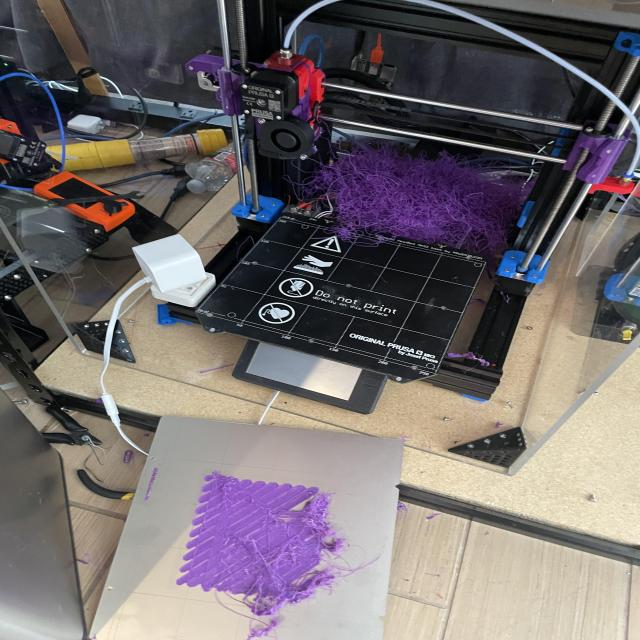Spaghetti: (311, 136, 524, 256), (226, 480, 377, 638)
